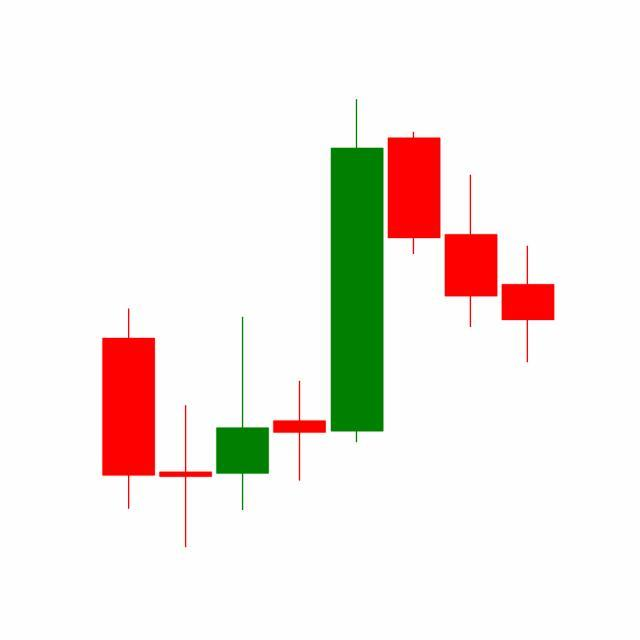Hikkake Pattern: (214, 99, 501, 515)
